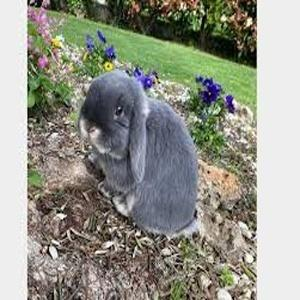rabbit: (77, 71, 196, 239)
